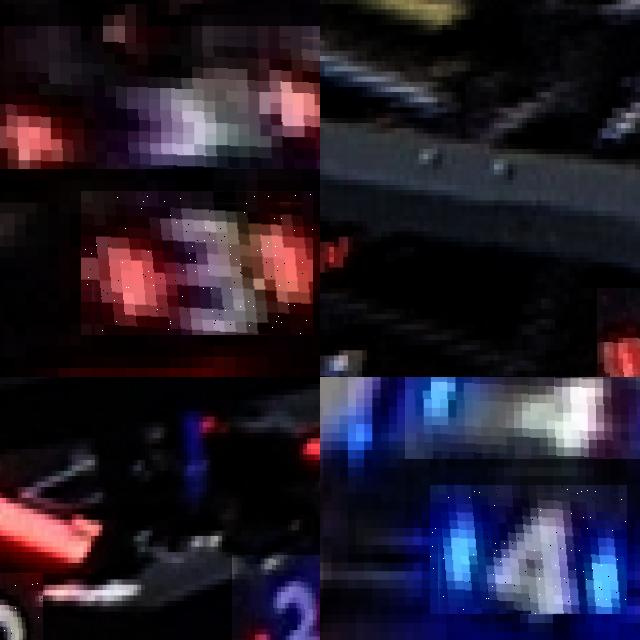B4: (430, 485, 627, 614), (405, 377, 640, 458)
R1: (597, 288, 640, 377)
R3: (0, 25, 320, 169), (81, 191, 313, 335), (232, 554, 320, 640)
